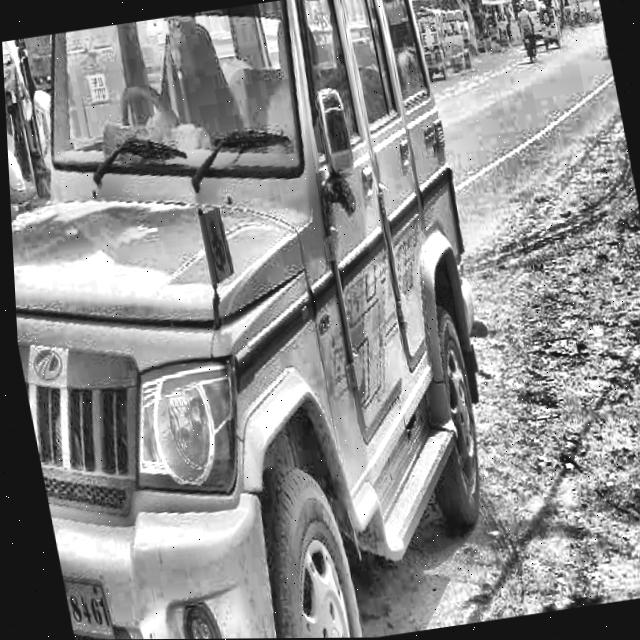light_vehicle: (0, 0, 524, 640)
